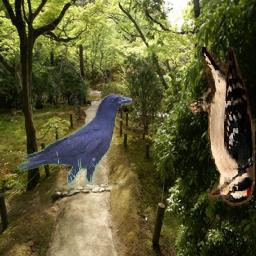Crow: (18, 93, 133, 191)
Woodpecker: (189, 48, 256, 209)
